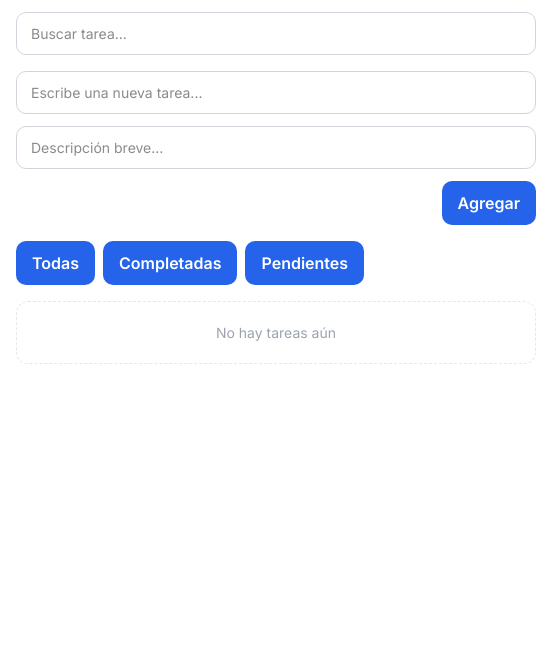
Test: filtra tareas completadas
In the field with placeholder "Escribe una nueva tarea...": [276, 92] box [16,71,536,114], type "Tarea 1"
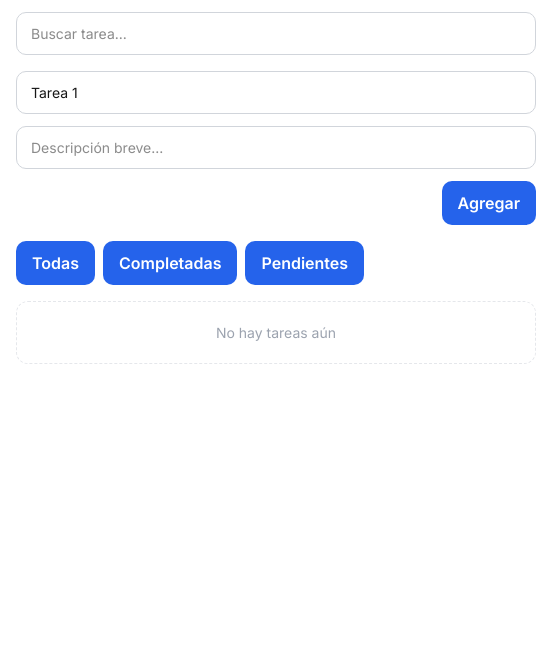
Click the button "Agregar": [489, 203] box [442,181,536,225]
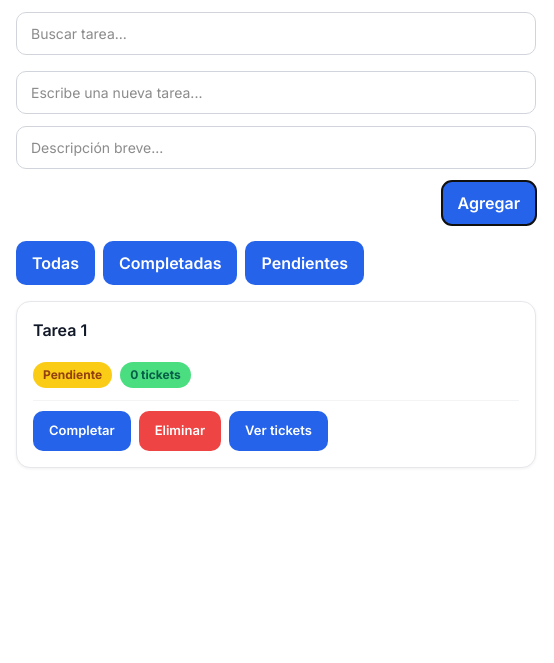
In the field with placeholder "Escribe una nueva tarea...": [276, 92] box [16,71,536,114], type "Tarea 2"
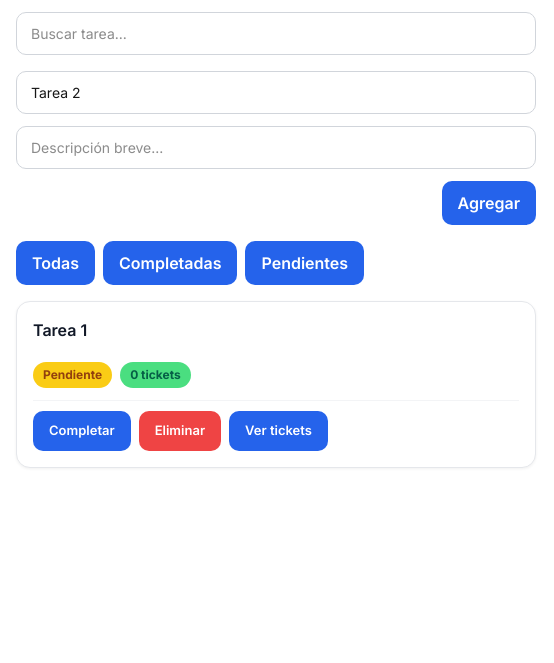
Click the button "Agregar": [489, 203] box [442,181,536,225]
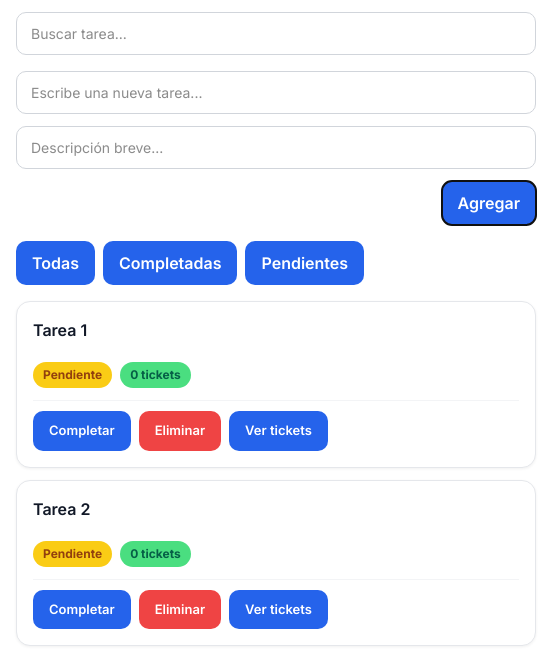
Click the button "Completar" below "Tarea 1": [82, 431] box [33,411,131,450]
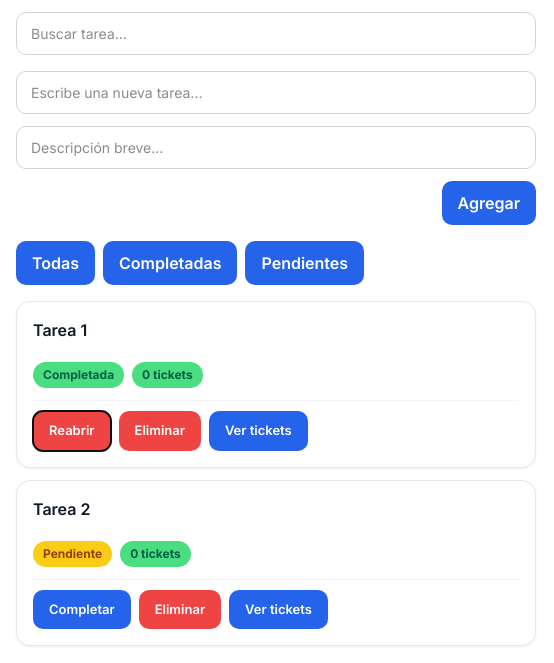
Click the button "Completadas": [170, 263] box [103,241,238,285]
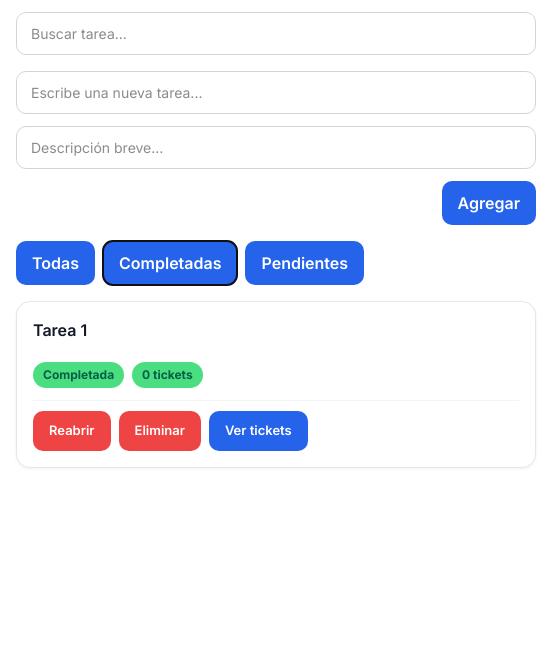
Expected: the heading "Tarea 1" is shown, [33,318,87,342]
Expected: the heading "Tarea 2" is gone
